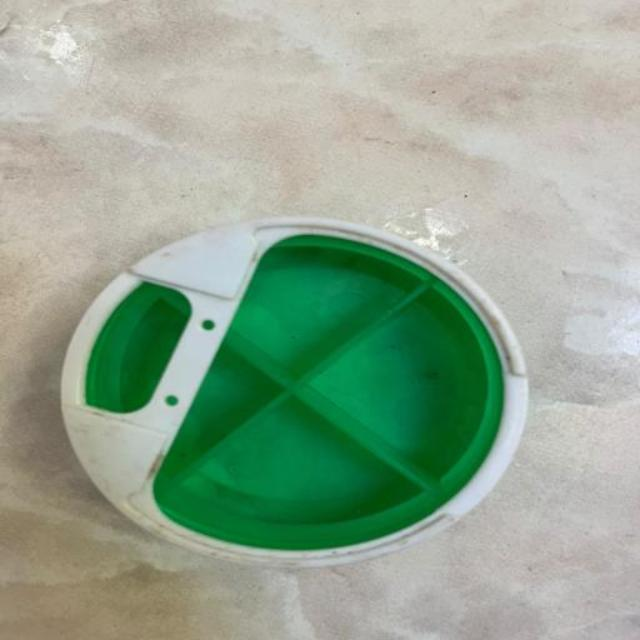HDPE: (13, 214, 603, 621)
